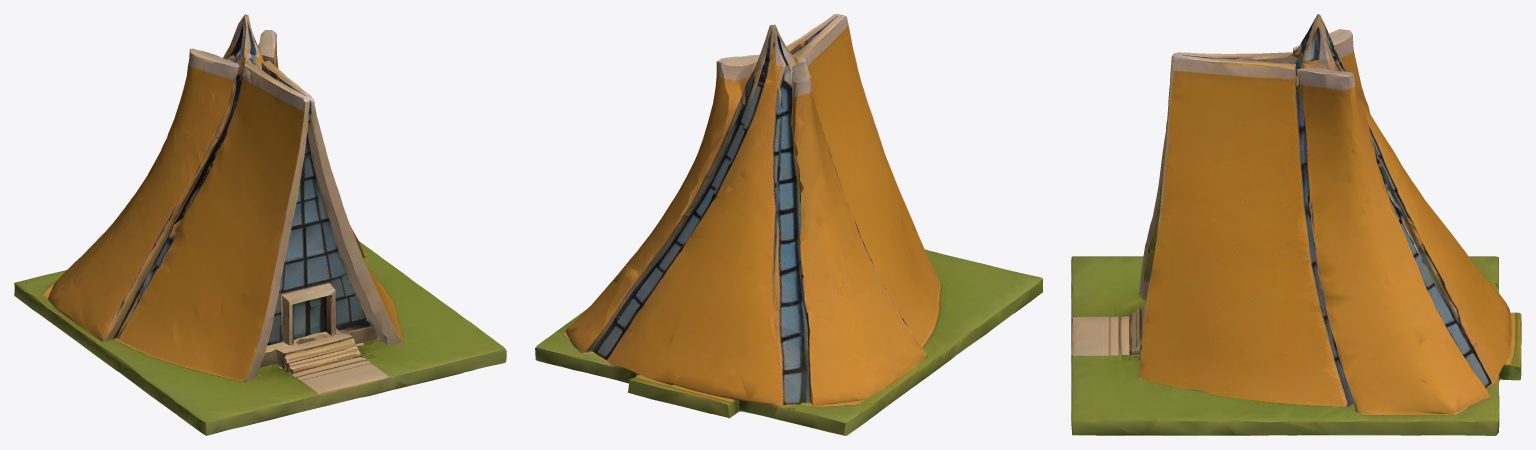
File: luce-memorial-chapel.glb
3 renders of one model, left to right at view 1: azimuth 30°, elevation 25°; view 2: azimuth 150°, elevation 25°; view 3: azimuth 270°, elevation 25°, orthographic. The views are drawn at different scales.
Parts seen in each view (by area): view 1: logan-textured.obj; view 2: logan-textured.obj; view 3: logan-textured.obj.
Boxes of the visible parts, x1,y1,x2,y2 form: logan-textured.obj: (14, 14, 506, 435); logan-textured.obj: (535, 14, 1042, 435); logan-textured.obj: (1071, 14, 1521, 435).
Size of the model in its own units: 0.867 by 0.8319 by 1.
1 material, 1 textured.
